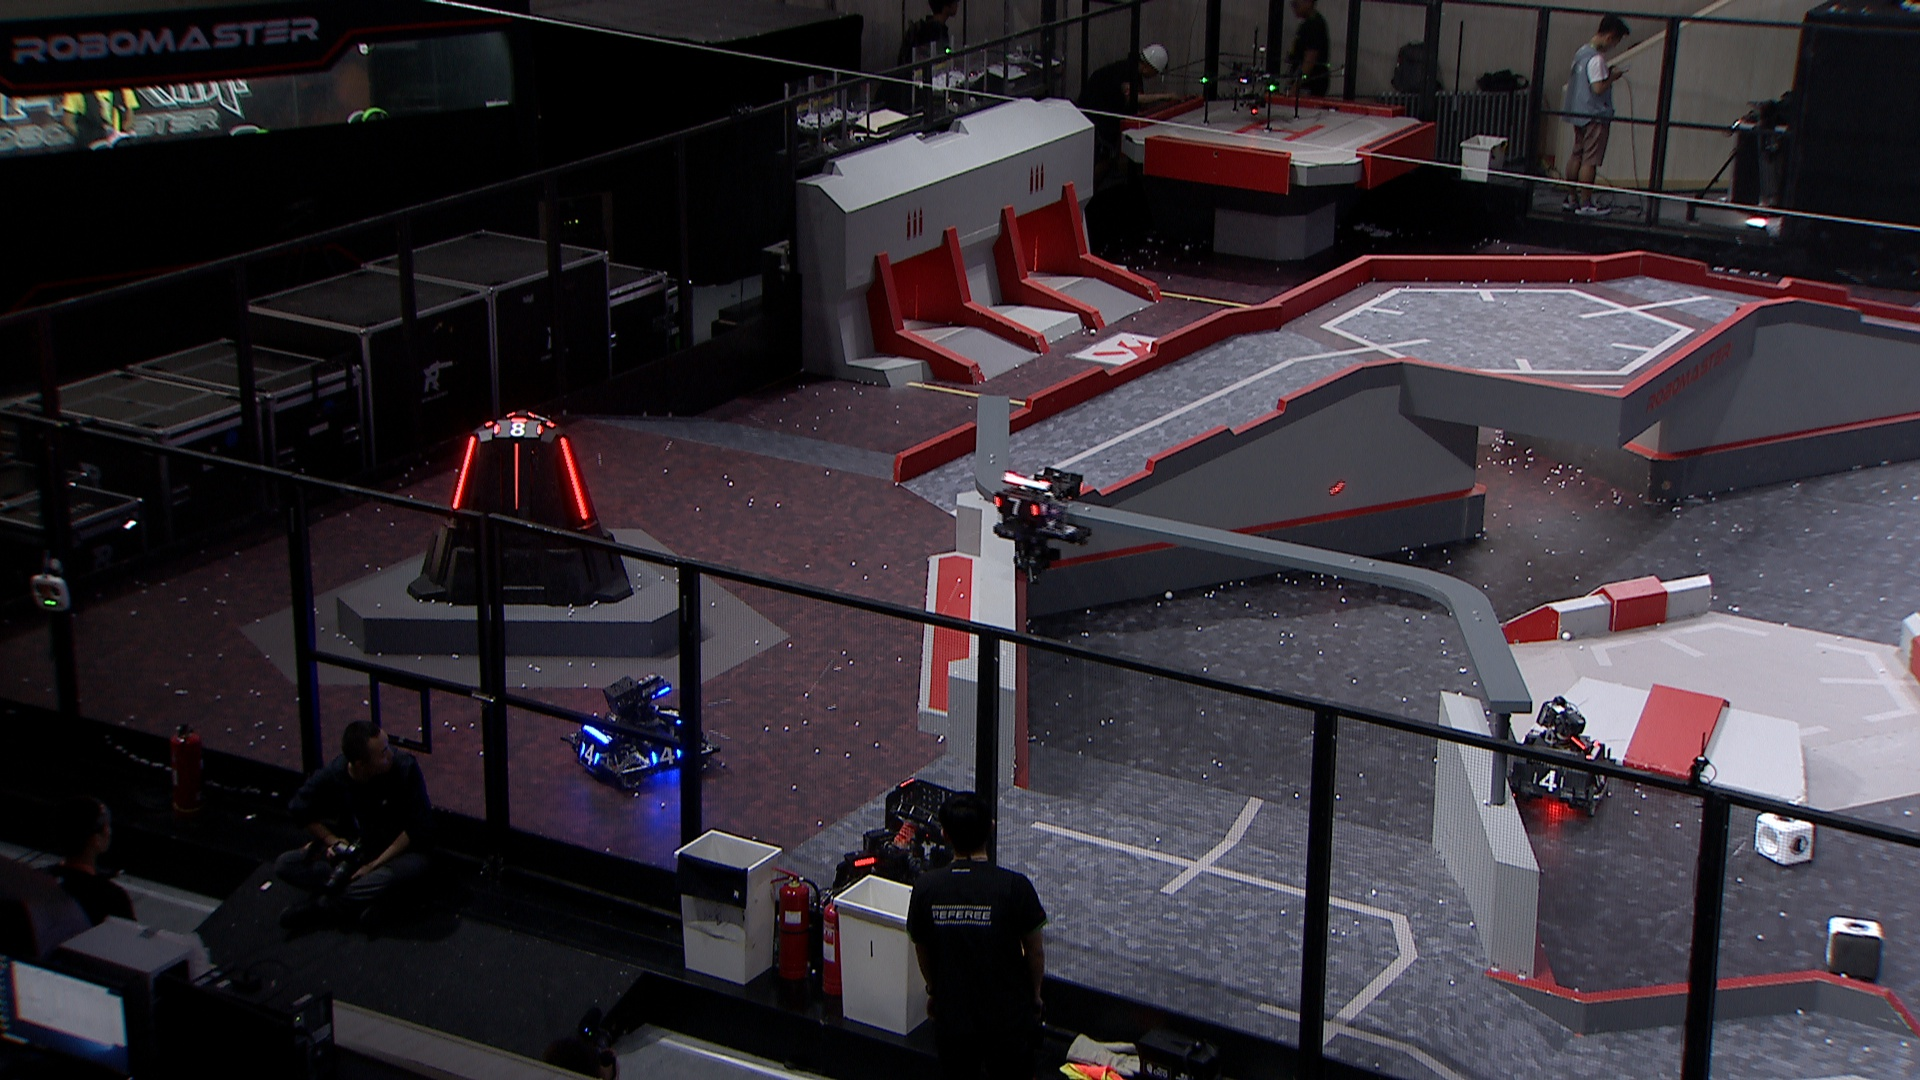armor: (556, 434, 589, 524), (451, 436, 477, 510), (491, 415, 546, 442), (992, 495, 1040, 520), (1531, 767, 1567, 793), (655, 704, 684, 731), (512, 442, 522, 510), (579, 738, 604, 765), (650, 746, 680, 767)
base: (407, 407, 636, 607)
car: (818, 779, 1005, 944), (560, 671, 721, 793), (1505, 699, 1618, 820)
watcher: (992, 467, 1091, 583)
